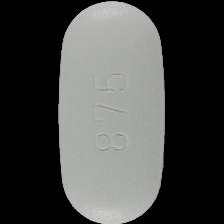35356-989: (0, 0, 224, 224)
